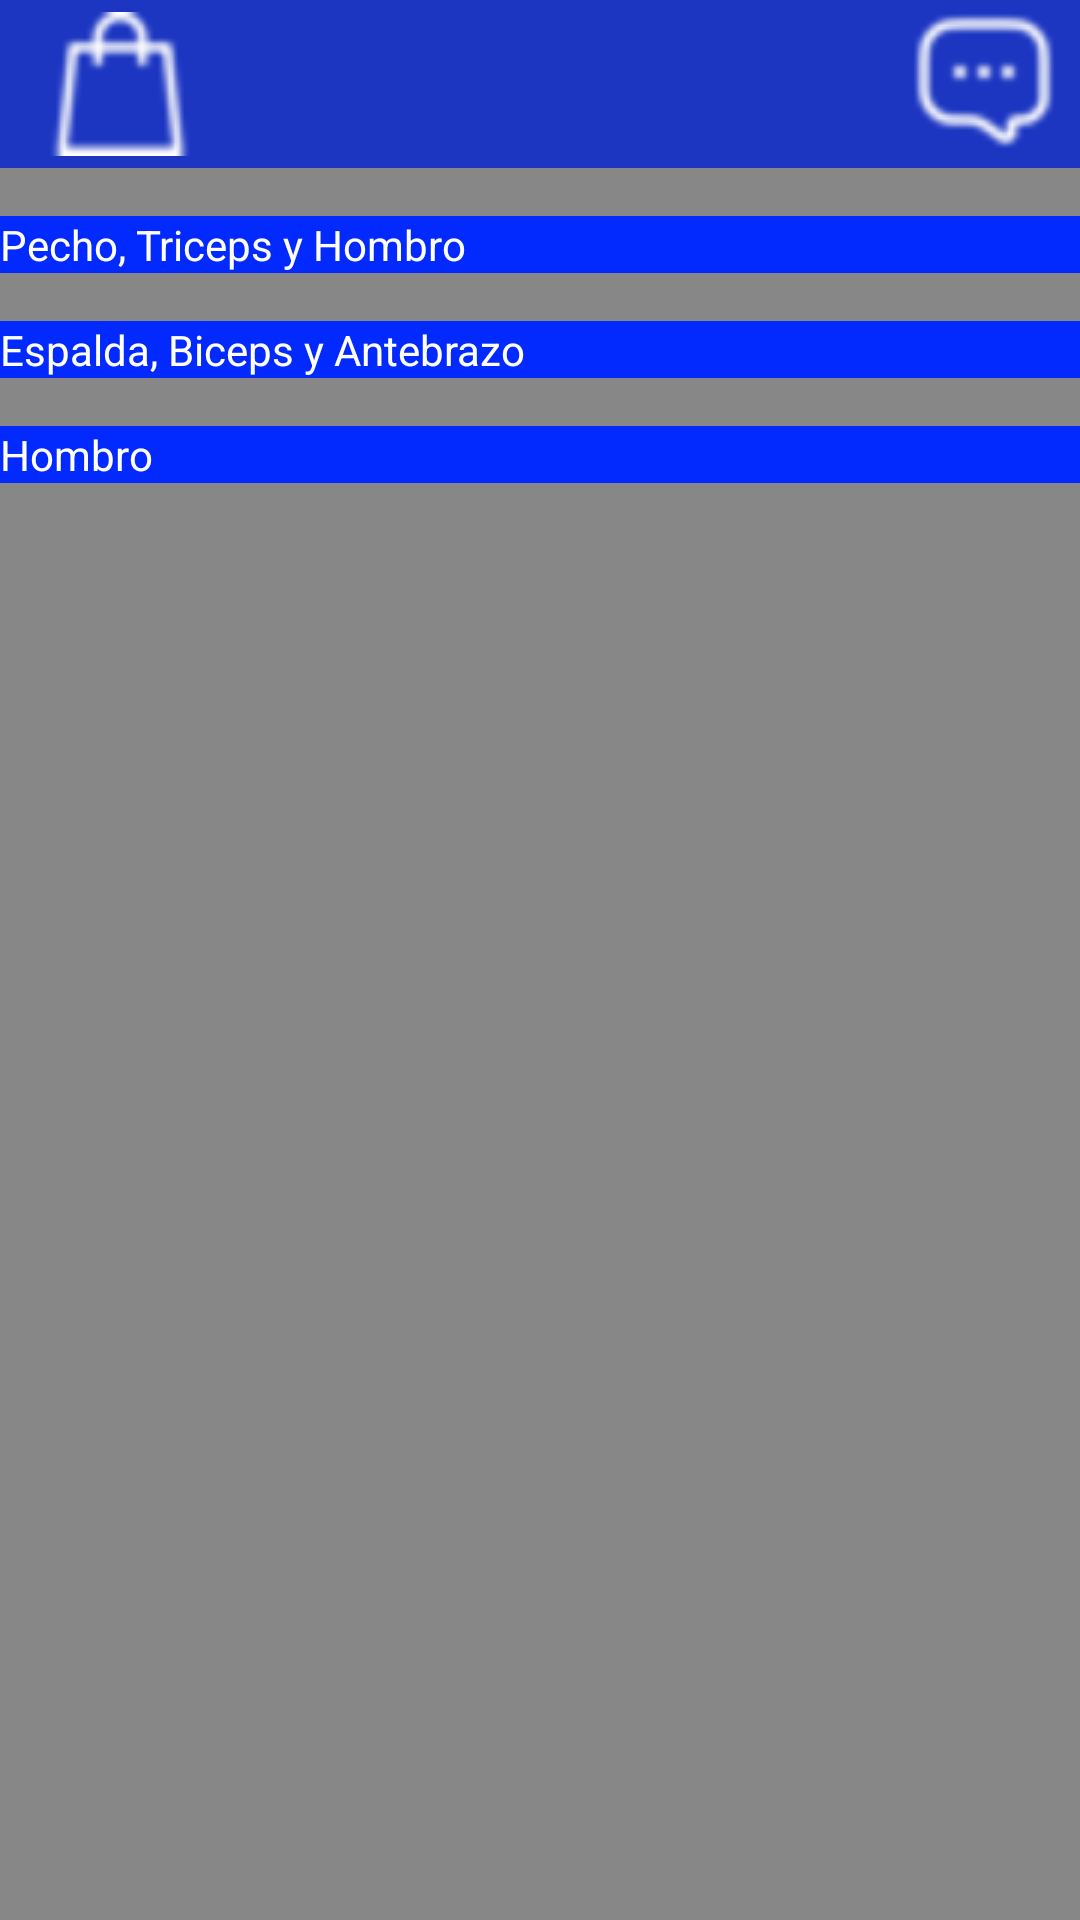

Locate icon controls on the screen. Image size 1080x1920, boxes as BBox(x1, y1, x2, y2).
chat: BBox(915, 15, 1053, 147)
tienda: BBox(53, 12, 187, 156)
